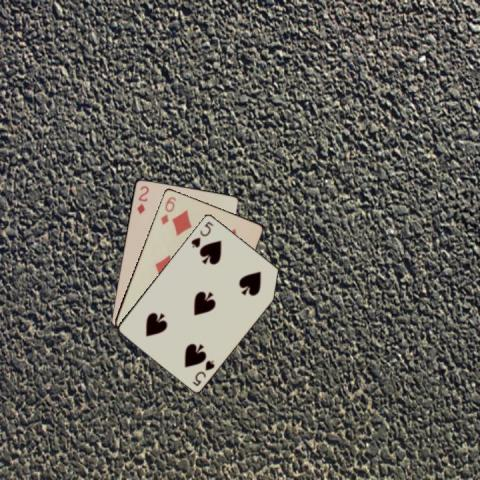2d: (134, 182, 150, 214)
5s: (188, 218, 215, 249), (189, 358, 216, 388)
6d: (158, 193, 177, 226)
